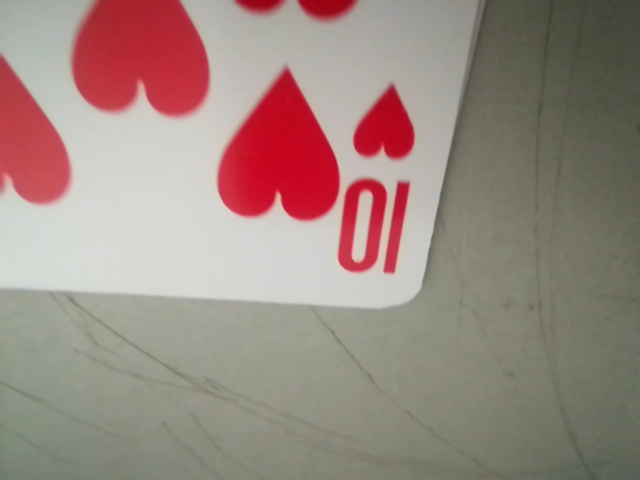hx 10: (333, 84, 424, 284)
